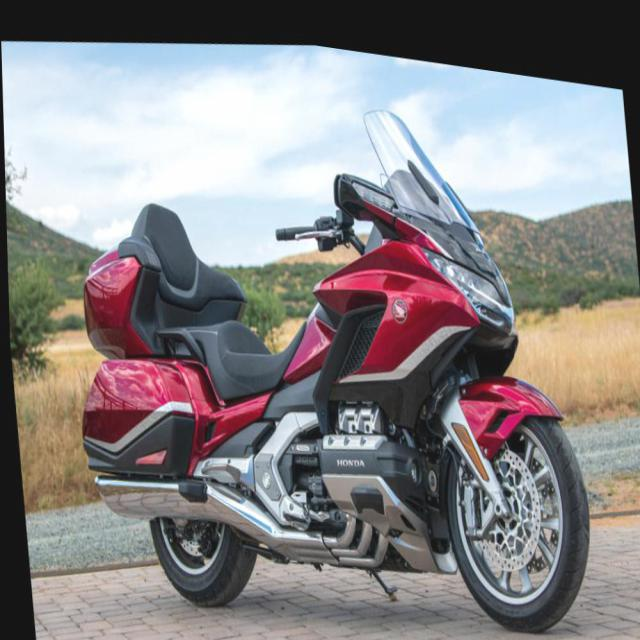Gold Wing: (50, 37, 602, 639)
